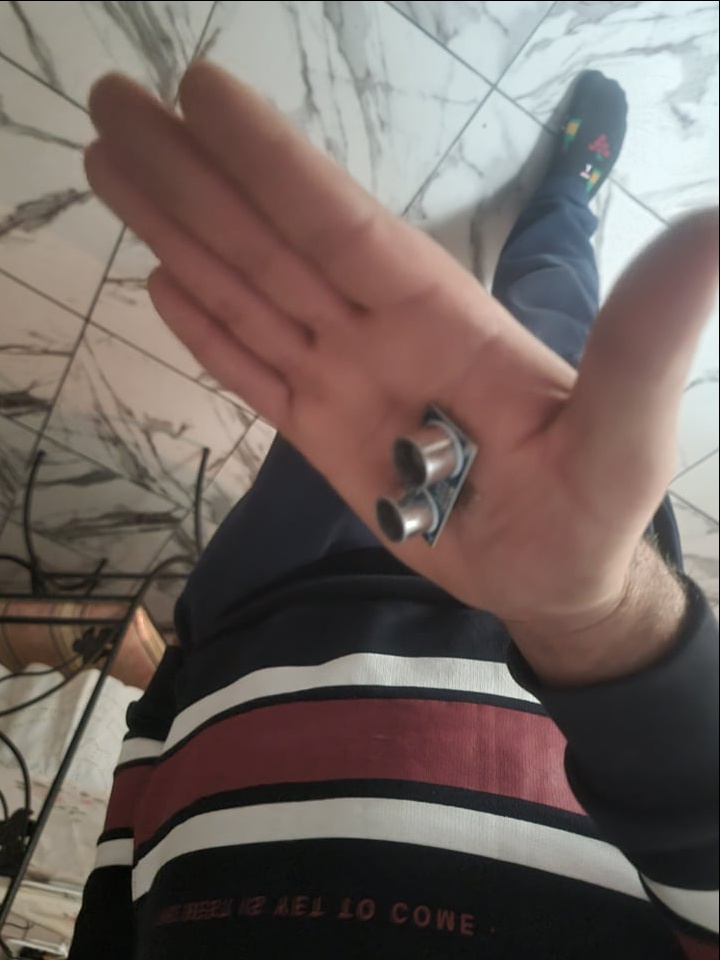SENSOR: (372, 402, 481, 550)
